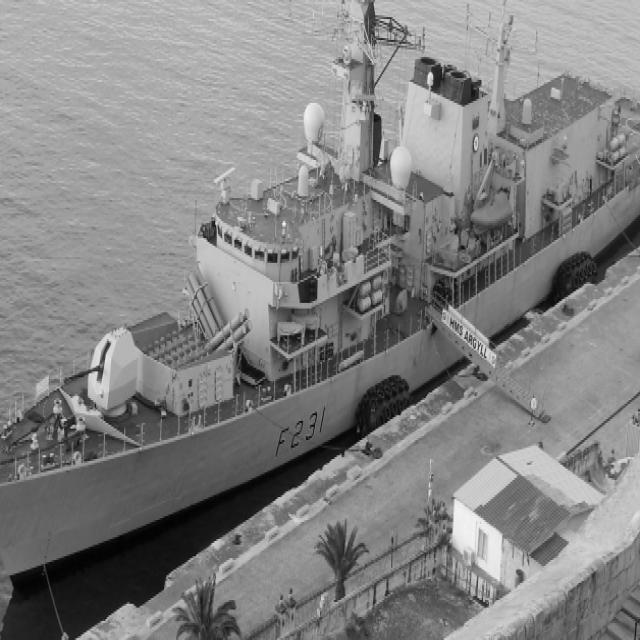Fragata: (1, 1, 640, 605)
